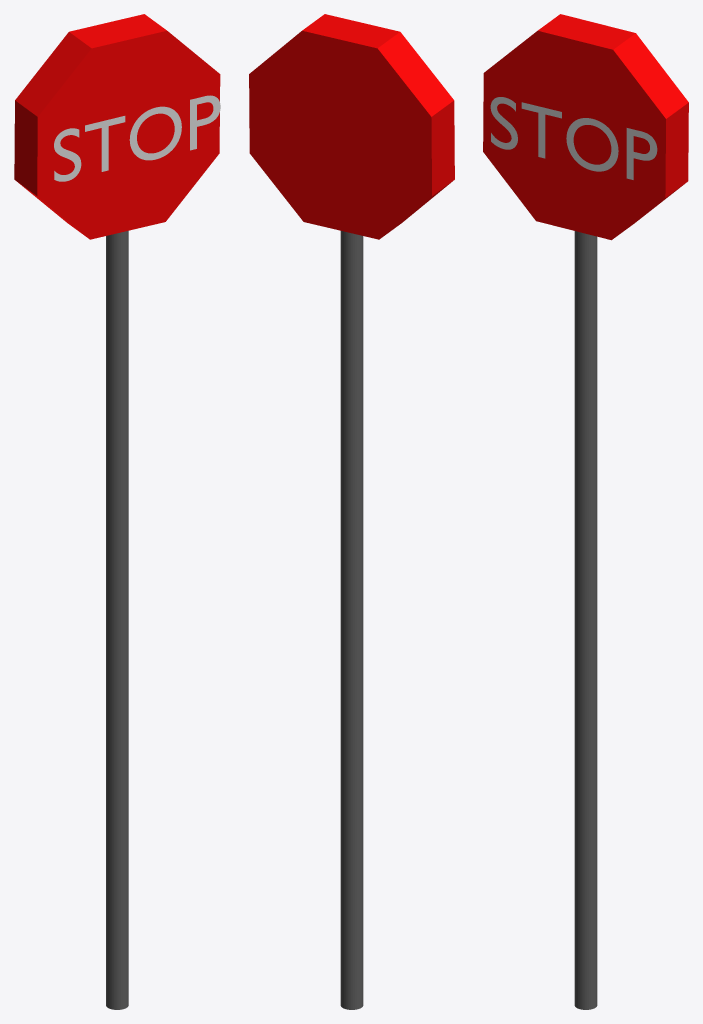
The model's file is StopSign.fbx.
The picture shows the model from 3 angles, left to right: view 1: azimuth 30°, elevation 25°; view 2: azimuth 150°, elevation 25°; view 3: azimuth 330°, elevation 25°; orthographic projection.
Visible parts, largest first — view 1: Cylinder, Text; view 2: Cylinder; view 3: Cylinder, Text.
Boxes of the visible parts, x1,y1,x2,y2 form: Cylinder: (14, 14, 220, 1009); Text: (54, 95, 220, 181); Cylinder: (249, 14, 454, 1009); Cylinder: (483, 14, 688, 1009); Text: (490, 97, 657, 179).
Size of the model in its own units: 185 by 943 by 48.07.
